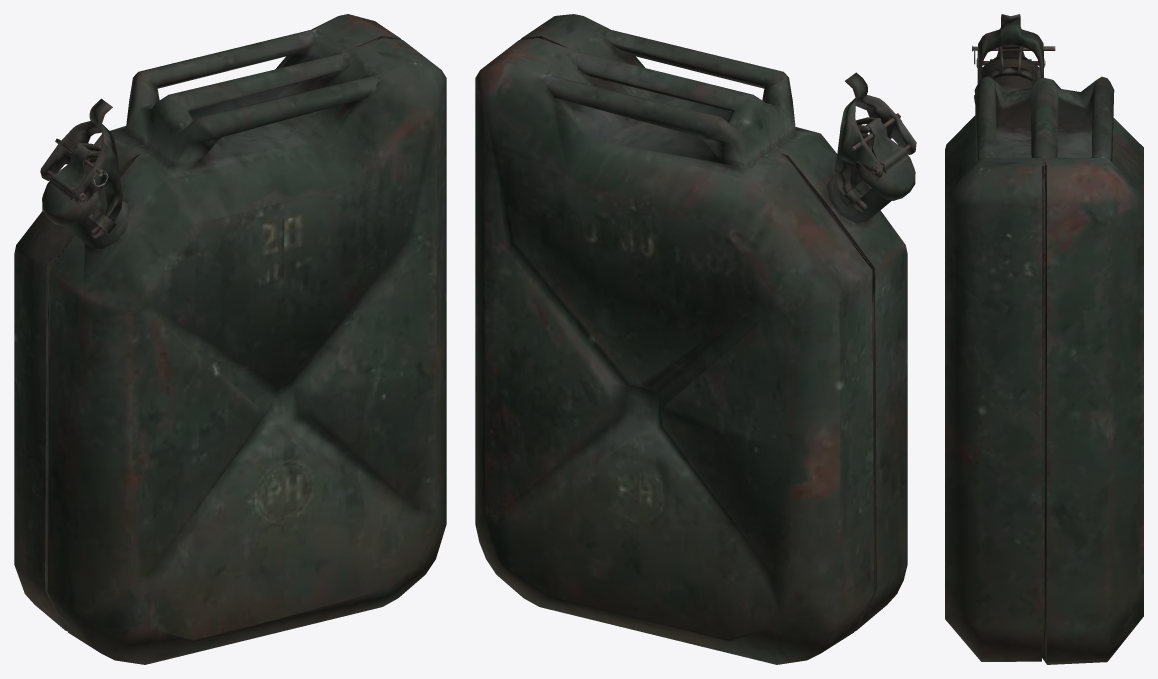
File: jerrycan.glb
The picture shows the model from 3 angles, left to right: view 1: azimuth 30°, elevation 25°; view 2: azimuth 150°, elevation 25°; view 3: azimuth 270°, elevation 25°; orthographic projection. The views are drawn at different scales.
Visible parts, largest first — view 1: metal_jerrycan_green_body, metal_jerrycan_green_latch, metal_jerrycan_green_cap; view 2: metal_jerrycan_green_body, metal_jerrycan_green_latch, metal_jerrycan_green_cap; view 3: metal_jerrycan_green_body, metal_jerrycan_green_latch, metal_jerrycan_green_cap, metal_jerrycan_green_fastener.
Part boxes in pixels (x1,y1,x2,y2): metal_jerrycan_green_body: (14, 14, 446, 664); metal_jerrycan_green_latch: (40, 98, 122, 238); metal_jerrycan_green_cap: (42, 145, 101, 226); metal_jerrycan_green_body: (475, 14, 907, 664); metal_jerrycan_green_latch: (834, 72, 916, 211); metal_jerrycan_green_cap: (856, 118, 915, 200); metal_jerrycan_green_body: (945, 75, 1143, 664); metal_jerrycan_green_latch: (976, 14, 1045, 83); metal_jerrycan_green_cap: (980, 44, 1040, 79); metal_jerrycan_green_fastener: (989, 46, 1032, 80).
Bounding box in the file's own units: 0.3604 × 0.4998 × 0.1709.
Materials: 1 (1 with a texture image).
